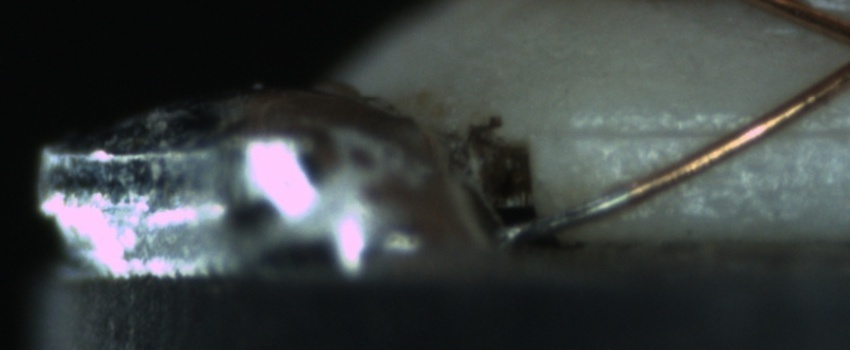CL: (834, 17, 850, 82)
DL: (559, 100, 846, 164)
TS: (503, 183, 635, 242)
